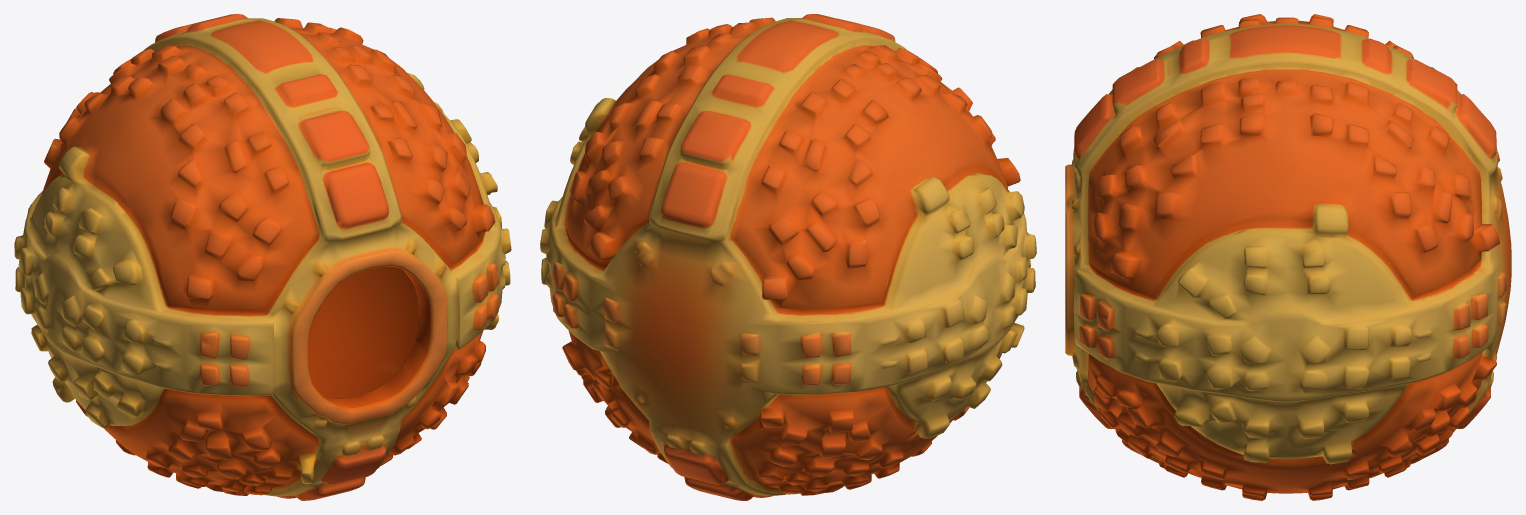
The model's file is shop_antislip.glb.
The picture shows the model from 3 angles, left to right: view 1: azimuth 30°, elevation 25°; view 2: azimuth 150°, elevation 25°; view 3: azimuth 270°, elevation 25°; orthographic projection.
Parts seen in each view (by area): view 1: material; view 2: material; view 3: material.
Part boxes in pixels (bbox=[...]): material: bbox=[14, 14, 511, 500]; material: bbox=[540, 14, 1036, 500]; material: bbox=[1065, 14, 1511, 500].
Size of the model in its own units: 1.9 by 1.9 by 1.73.
Materials: 1 (1 with a texture image).
